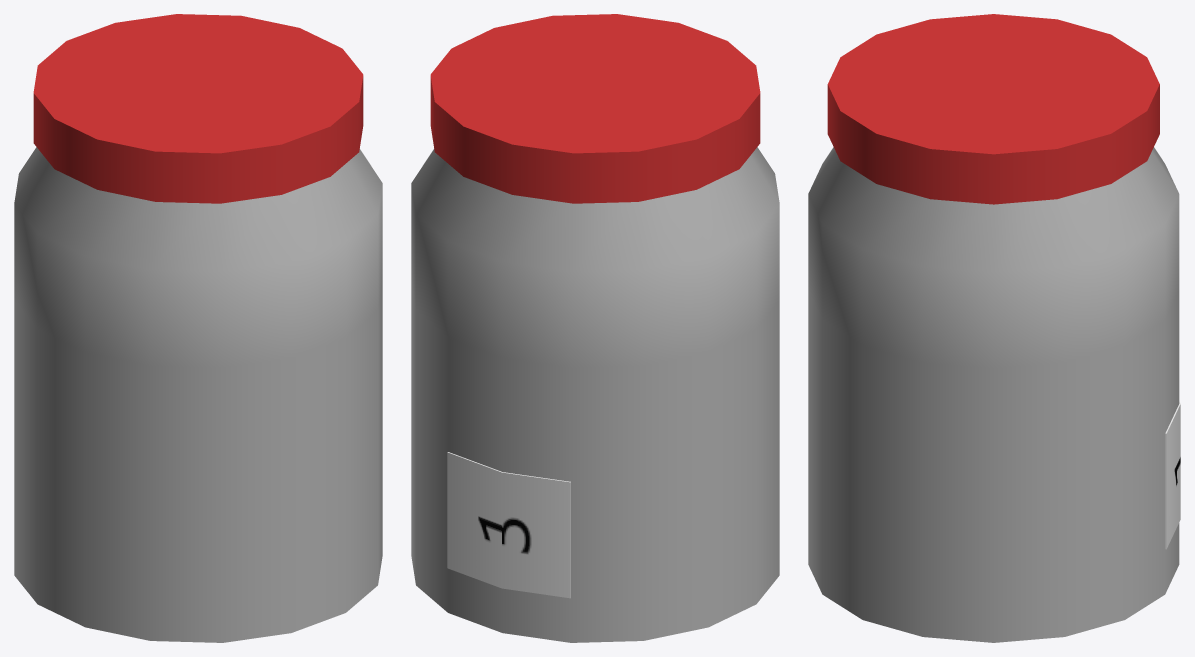
Rendered from cup.dae.
3 views of the same model, side by side, from view 1: azimuth 30°, elevation 25°; view 2: azimuth 150°, elevation 25°; view 3: azimuth 270°, elevation 25° (orthographic).
Visible parts, largest first — view 1: Cup, Lid; view 2: Cup, Lid, Lable3, Lable1; view 3: Cup, Lid, Lable1.
Boxes of the visible parts, <box> form: Cup: <box>14,147,382,642</box>; Lid: <box>33,14,363,203</box>; Cup: <box>411,147,779,642</box>; Lid: <box>430,14,760,203</box>; Lable3: <box>483,465,570,598</box>; Lable1: <box>447,452,564,588</box>; Cup: <box>808,147,1179,642</box>; Lid: <box>827,14,1159,204</box>; Lable1: <box>1165,404,1180,549</box>.
Size of the model in its own units: 12.06 by 17.24 by 12.11.
